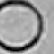no answer: (0, 0, 42, 51)
